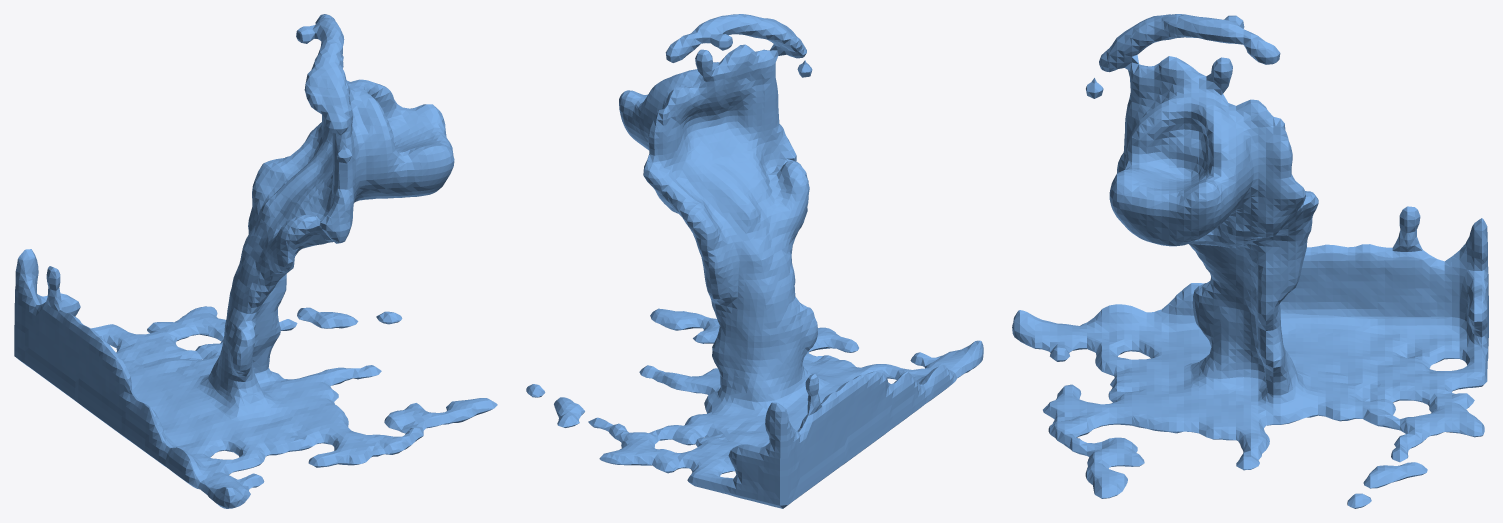
Rendered from water_0042.glb.
The picture shows the model from 3 angles, left to right: view 1: azimuth 30°, elevation 25°; view 2: azimuth 150°, elevation 25°; view 3: azimuth 270°, elevation 25°; orthographic projection. The views are drawn at different scales.
Visible parts, largest first — view 1: Water_0042; view 2: Water_0042; view 3: Water_0042.
Boxes of the visible parts, left/top/right/bottom form: Water_0042: left=14, top=14, right=497, bottom=508; Water_0042: left=526, top=14, right=983, bottom=508; Water_0042: left=1012, top=14, right=1488, bottom=508.
Size of the model in its own units: 3.33 by 3.65 by 3.73.
